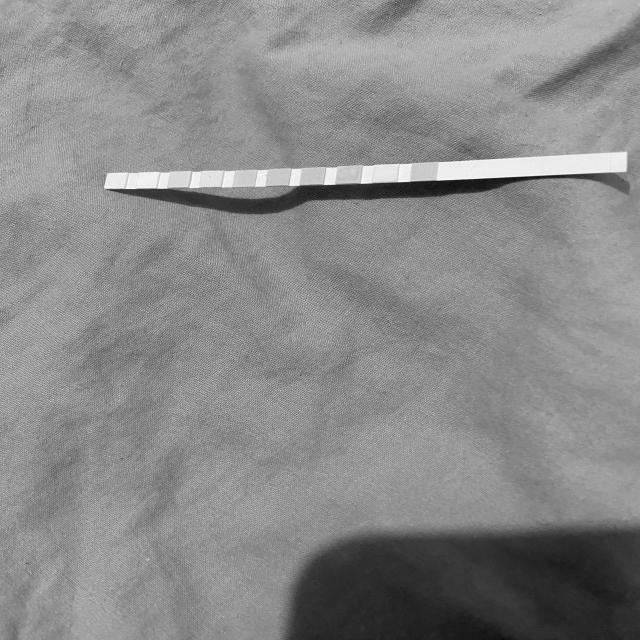Bilirubin: (375, 167, 396, 181)
Blood: (269, 170, 287, 184)
Glucose: (413, 165, 435, 179)
Ketone: (338, 168, 359, 182)
Leukocytes: (108, 175, 124, 187)
Nitrite: (140, 175, 156, 186)
Protein: (202, 173, 220, 186)
SpGravity: (303, 170, 323, 183)
Urobilinogen: (171, 173, 188, 186)
background: (0, 0, 640, 640)
pH: (236, 172, 253, 185)
strip: (104, 152, 627, 189)
